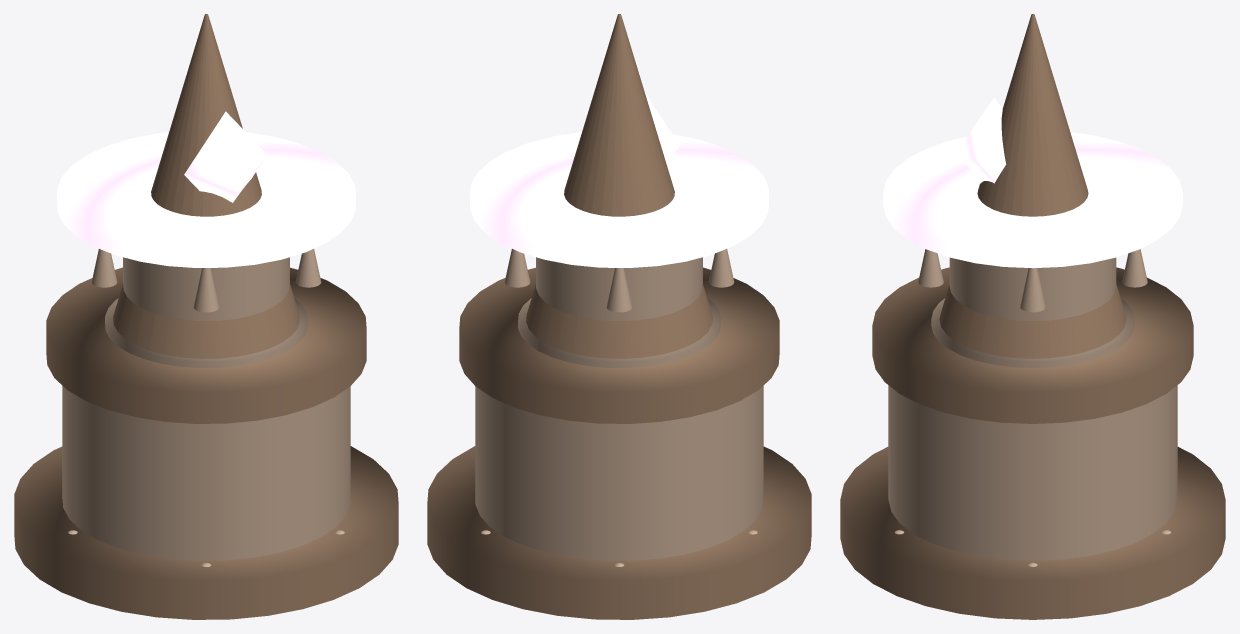
The model's file is void_l3.glb.
3 views of the same model, side by side, from view 1: azimuth 30°, elevation 25°; view 2: azimuth 150°, elevation 25°; view 3: azimuth 270°, elevation 25° (orthographic).
Parts seen in each view (by area): view 1: base, footing, baseCollar, spinRing, obelisk, shaft, spinCrystal, lowerTrim, VoidLowerShard2, VoidLowerShard3, VoidLowerShard1; view 2: base, footing, baseCollar, spinRing, obelisk, shaft, lowerTrim, VoidLowerShard4, VoidLowerShard3, VoidLowerShard5, spinCrystal; view 3: base, footing, baseCollar, spinRing, obelisk, shaft, lowerTrim, spinCrystal, VoidLowerShard0, VoidLowerShard1, VoidLowerShard5.
Part boxes in pixels (<box>): base: <box>62,386,350,560</box>; footing: <box>14,446,398,619</box>; baseCollar: <box>46,267,366,423</box>; spinRing: <box>57,132,355,267</box>; obelisk: <box>113,14,299,358</box>; shaft: <box>123,257,289,321</box>; spinCrystal: <box>184,111,267,202</box>; lowerTrim: <box>105,298,307,367</box>; VoidLowerShard2: <box>193,268,219,312</box>; VoidLowerShard3: <box>91,249,117,287</box>; VoidLowerShard1: <box>295,249,321,287</box>; base: <box>475,386,763,560</box>; footing: <box>427,446,811,619</box>; baseCollar: <box>459,267,779,423</box>; spinRing: <box>470,132,768,267</box>; obelisk: <box>526,14,712,358</box>; shaft: <box>536,257,702,321</box>; lowerTrim: <box>518,298,720,367</box>; VoidLowerShard4: <box>606,268,632,312</box>; VoidLowerShard3: <box>708,249,734,287</box>; VoidLowerShard5: <box>504,249,530,287</box>; spinCrystal: <box>645,93,680,161</box>; base: <box>888,385,1177,560</box>; footing: <box>840,447,1225,619</box>; baseCollar: <box>872,267,1193,423</box>; spinRing: <box>883,132,1182,268</box>; obelisk: <box>939,14,1126,358</box>; shaft: <box>949,257,1116,320</box>; lowerTrim: <box>931,298,1134,367</box>; spinCrystal: <box>957,97,1006,183</box>; VoidLowerShard0: <box>1020,268,1045,312</box>; VoidLowerShard1: <box>918,249,943,287</box>; VoidLowerShard5: <box>1122,249,1147,287</box>.
Bounding box in the file's own units: 1.8 × 2.7 × 1.8.
